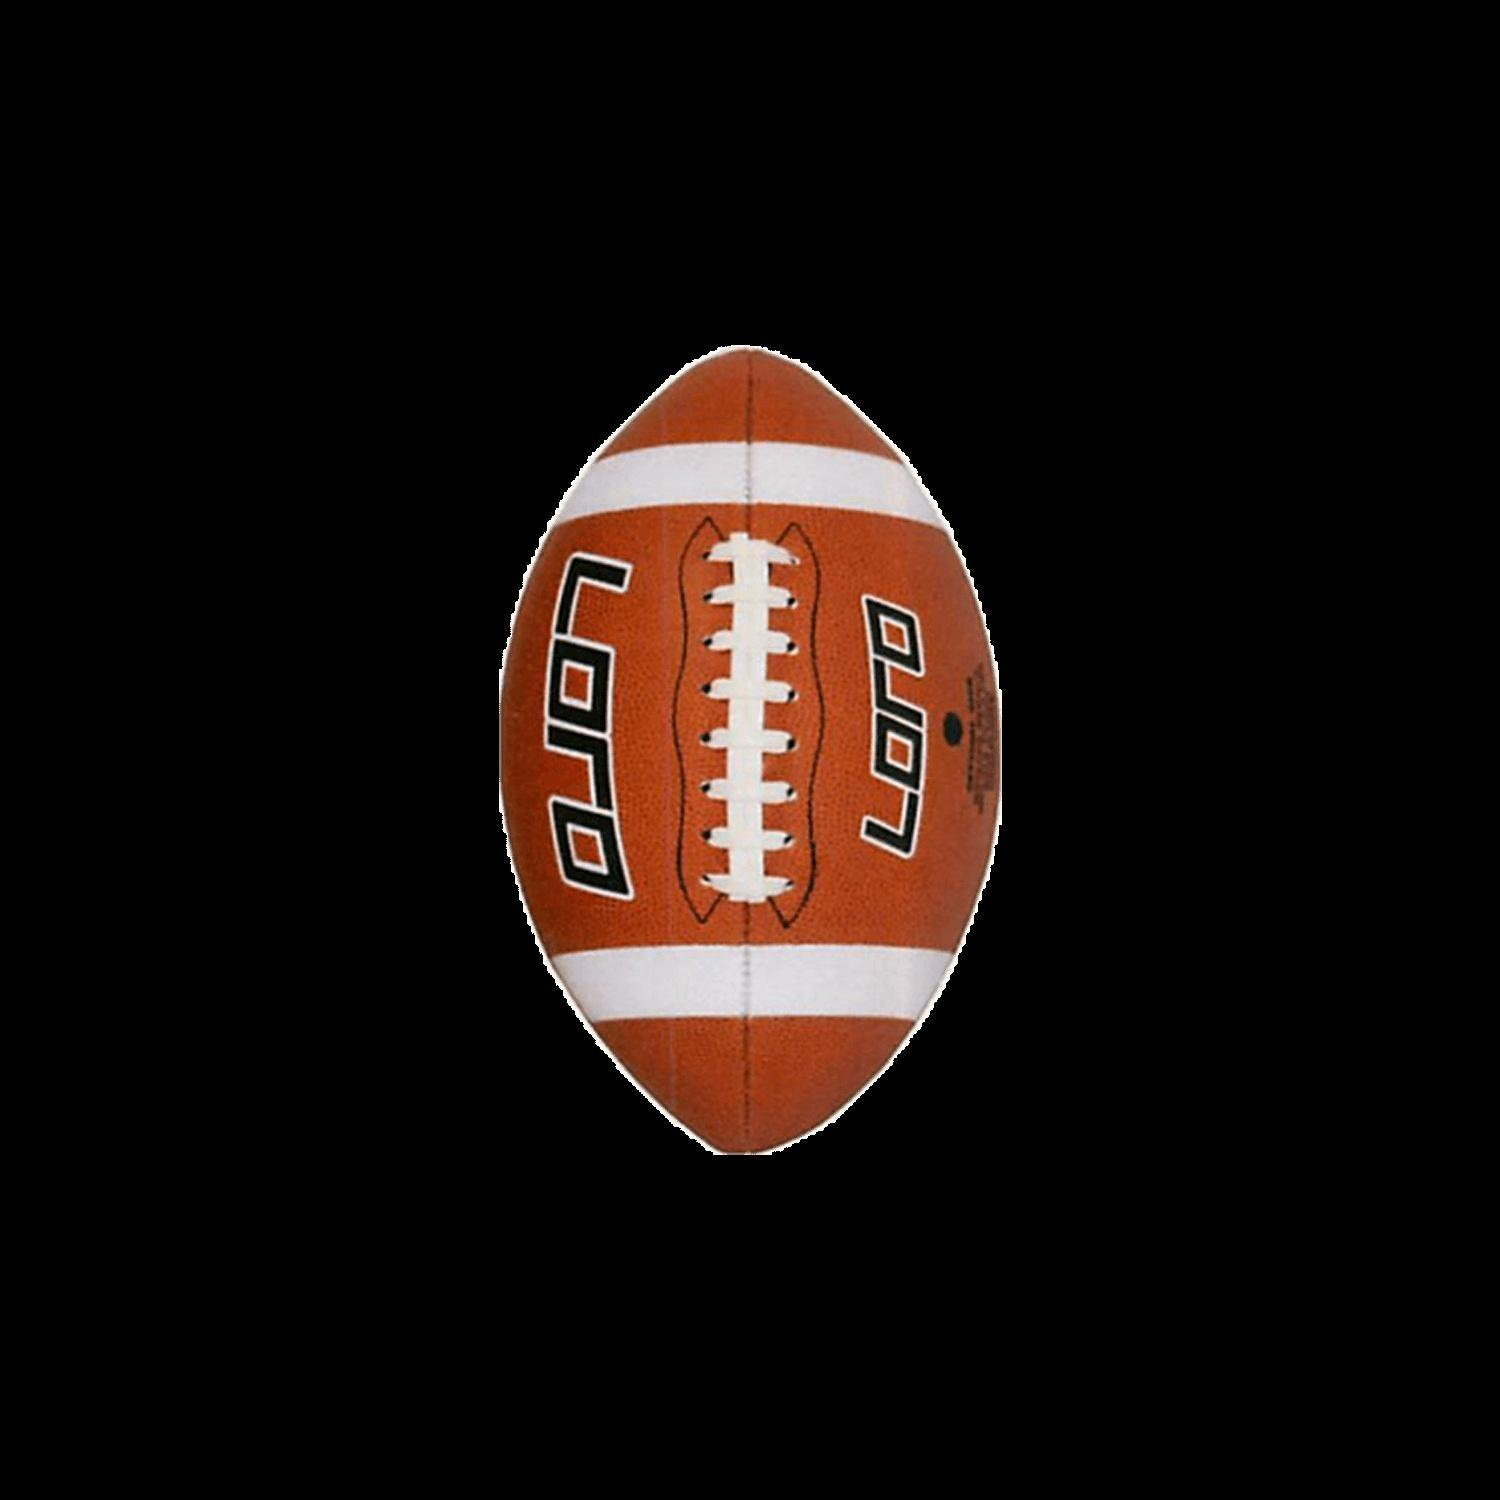Sports-Ball: (501, 346, 999, 1154)
